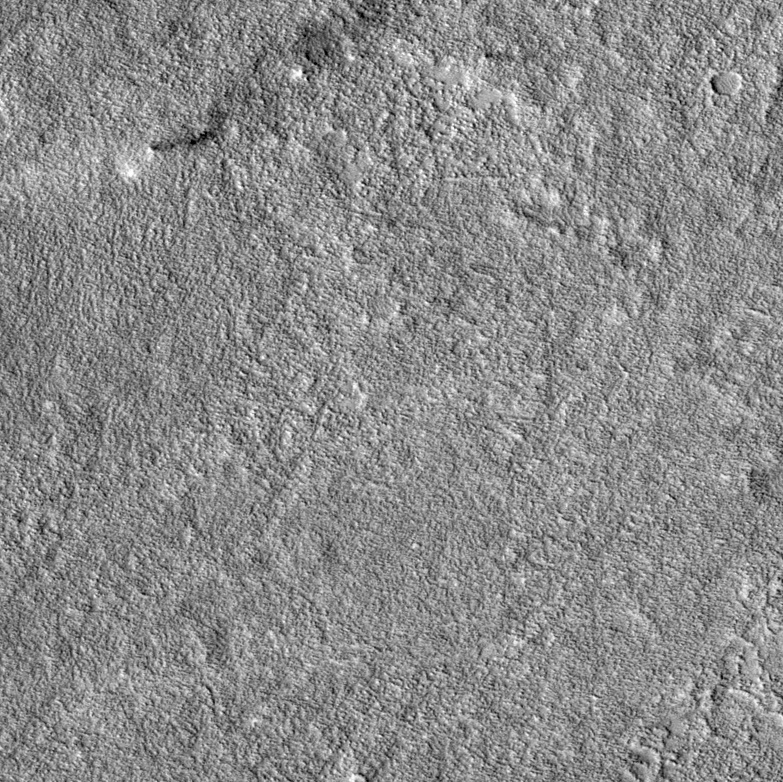dust_devil: (117, 108, 230, 182)
